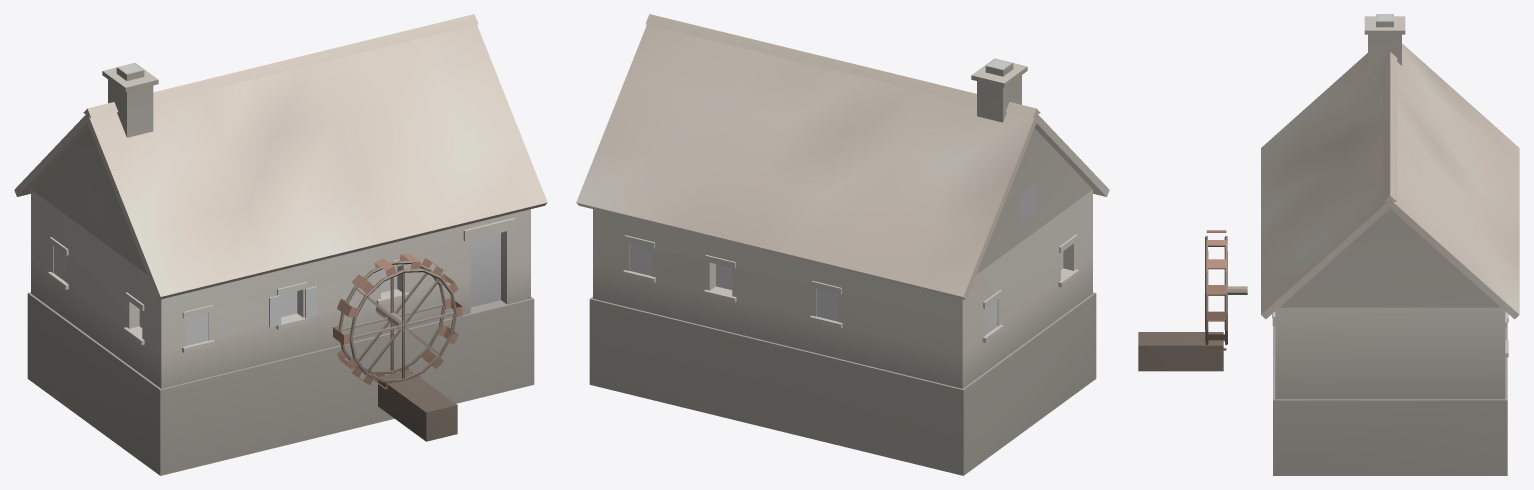
File: watermill_0.glb
3 views of the same model, side by side, from view 1: azimuth 30°, elevation 25°; view 2: azimuth 150°, elevation 25°; view 3: azimuth 270°, elevation 25° (orthographic). The views are drawn at different scales.
Visible parts, largest first — view 1: watermill_0; view 2: watermill_0; view 3: watermill_0.
Part boxes in pixels (left/top/right/bottom): watermill_0: left=14, top=14, right=547, bottom=475; watermill_0: left=576, top=14, right=1109, bottom=475; watermill_0: left=1138, top=14, right=1519, bottom=475.
Size of the model in its own units: 11.11 by 9.68 by 10.73.
